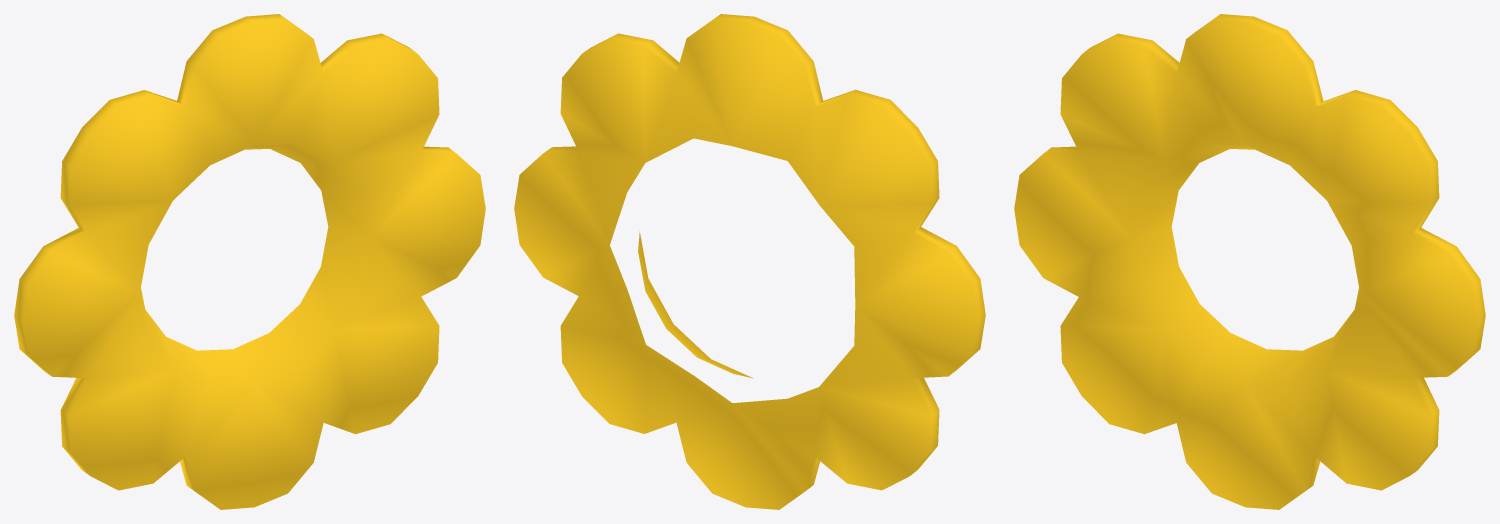
File: accessory-sunflowerhead.glb
3 views of the same model, side by side, from view 1: azimuth 30°, elevation 25°; view 2: azimuth 150°, elevation 25°; view 3: azimuth 330°, elevation 25° (orthographic).
Visible parts, largest first — view 1: accessory__JA_m_Hat64__0; view 2: accessory__JA_m_Hat64__0; view 3: accessory__JA_m_Hat64__0.
Part boxes in pixels (left/top/right/bottom): accessory__JA_m_Hat64__0: left=14, top=14, right=485, bottom=509; accessory__JA_m_Hat64__0: left=514, top=14, right=985, bottom=509; accessory__JA_m_Hat64__0: left=1014, top=14, right=1485, bottom=509.
Size of the model in its own units: 0.8461 by 0.8461 by 0.0692.
